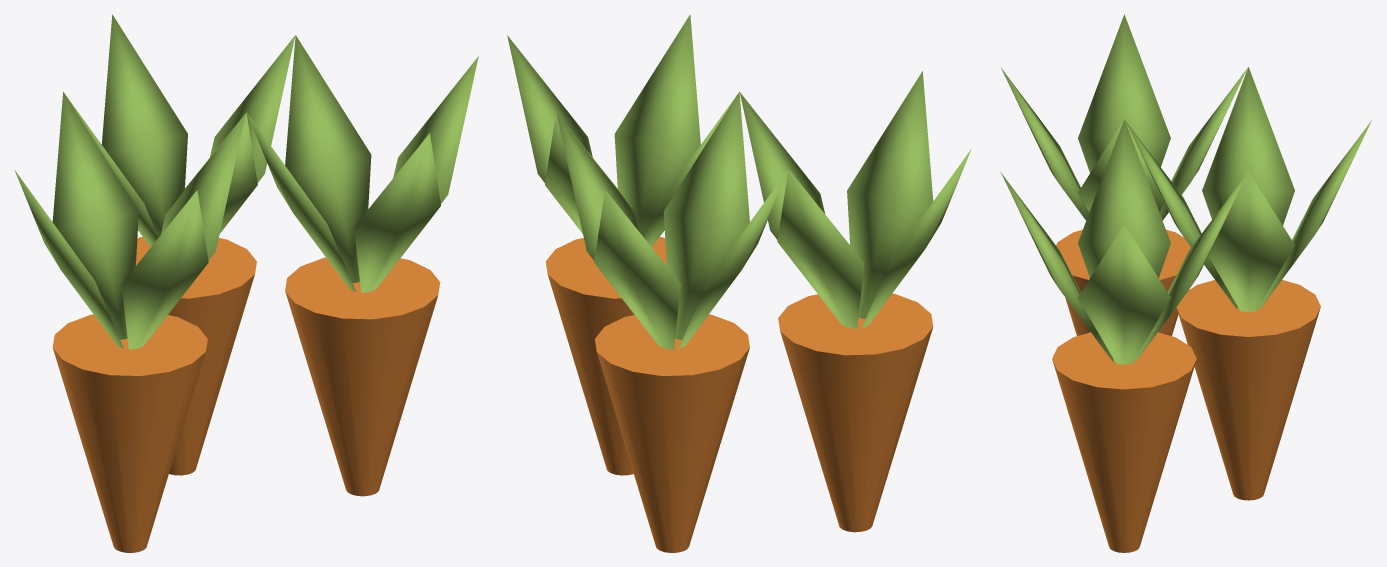
File: crop_2_stage_3.fbx
3 views of the same model, side by side, from view 1: azimuth 30°, elevation 25°; view 2: azimuth 150°, elevation 25°; view 3: azimuth 270°, elevation 25° (orthographic). The views are drawn at different scales.
Visible parts, largest first — view 1: crop_2_stage_3; view 2: crop_2_stage_3; view 3: crop_2_stage_3.
Part boxes in pixels (x1,y1,x2,y2): crop_2_stage_3: (14, 14, 478, 552); crop_2_stage_3: (507, 14, 971, 552); crop_2_stage_3: (1000, 14, 1371, 552).
Bounding box in the file's own units: 0.54 × 0.45 × 0.405.
1 material, 1 textured.
